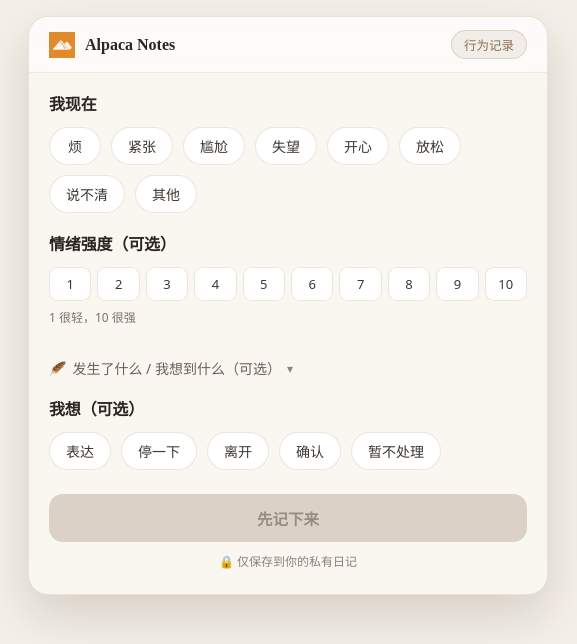
Test case: QuickCheckinView › renders emotion checkin by default with submit button disabled until an emotion is picked
This screenshot has width=577, height=644.
Expected: the heading "我现在" is shown, [49, 93, 96, 115]
Expected: the button "先记下来" is disabled, [49, 494, 527, 542]
Note:  Tap "烦"
Click the button "烦" at (75, 146), box [49, 127, 101, 165]
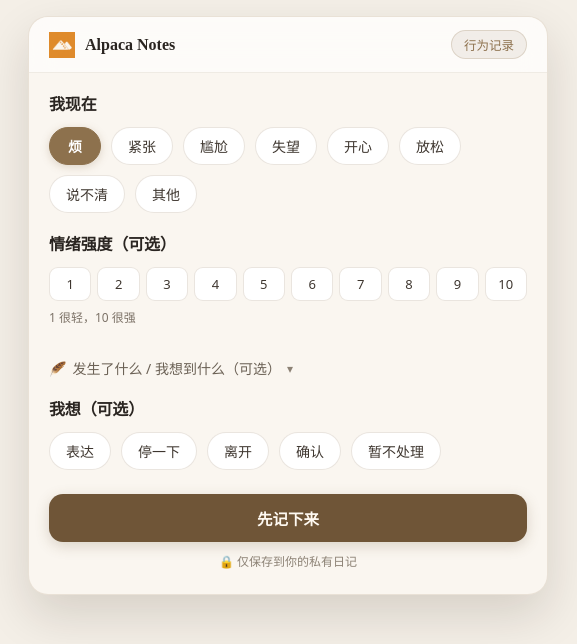
Expected: the button "先记下来" is enabled, [49, 494, 527, 542]
Note: Tap "烦" again to deselect
Click the button "烦" at (75, 146), box [49, 127, 101, 165]
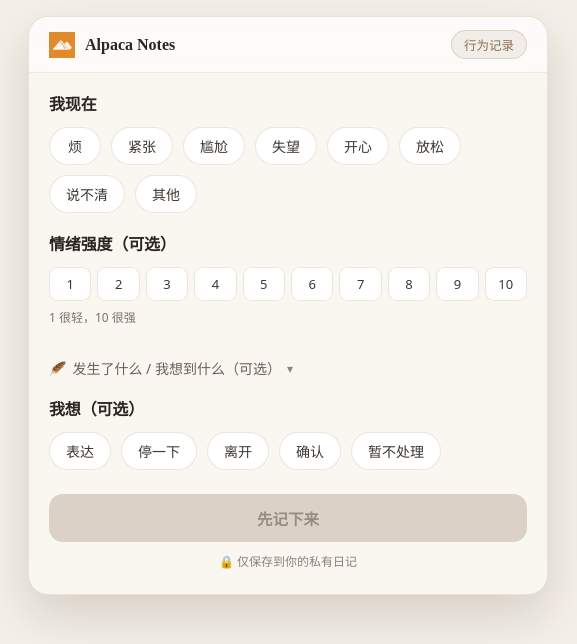
Expected: the button "先记下来" is disabled, [49, 494, 527, 542]
